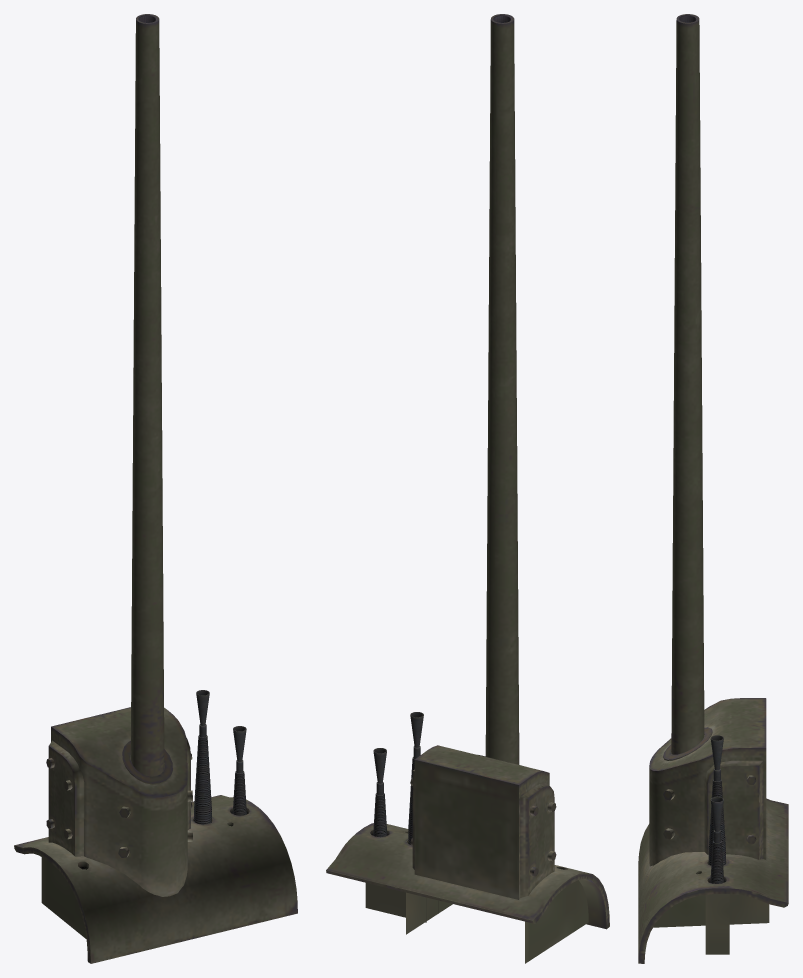
Rendered from Gun_06.glb.
The picture shows the model from 3 angles, left to right: view 1: azimuth 30°, elevation 25°; view 2: azimuth 150°, elevation 25°; view 3: azimuth 270°, elevation 25°; orthographic projection. The views are drawn at different scales.
Parts seen in each view (by area): view 1: set_0_group_0; view 2: set_0_group_0; view 3: set_0_group_0.
Boxes of the visible parts, bbox=[...] form: set_0_group_0: bbox=[14, 14, 297, 963]; set_0_group_0: bbox=[326, 14, 609, 963]; set_0_group_0: bbox=[638, 14, 788, 963].
Bounding box in the file's own units: 0.8135 × 3.41 × 0.5248.
Materials: 1 (1 with a texture image).
